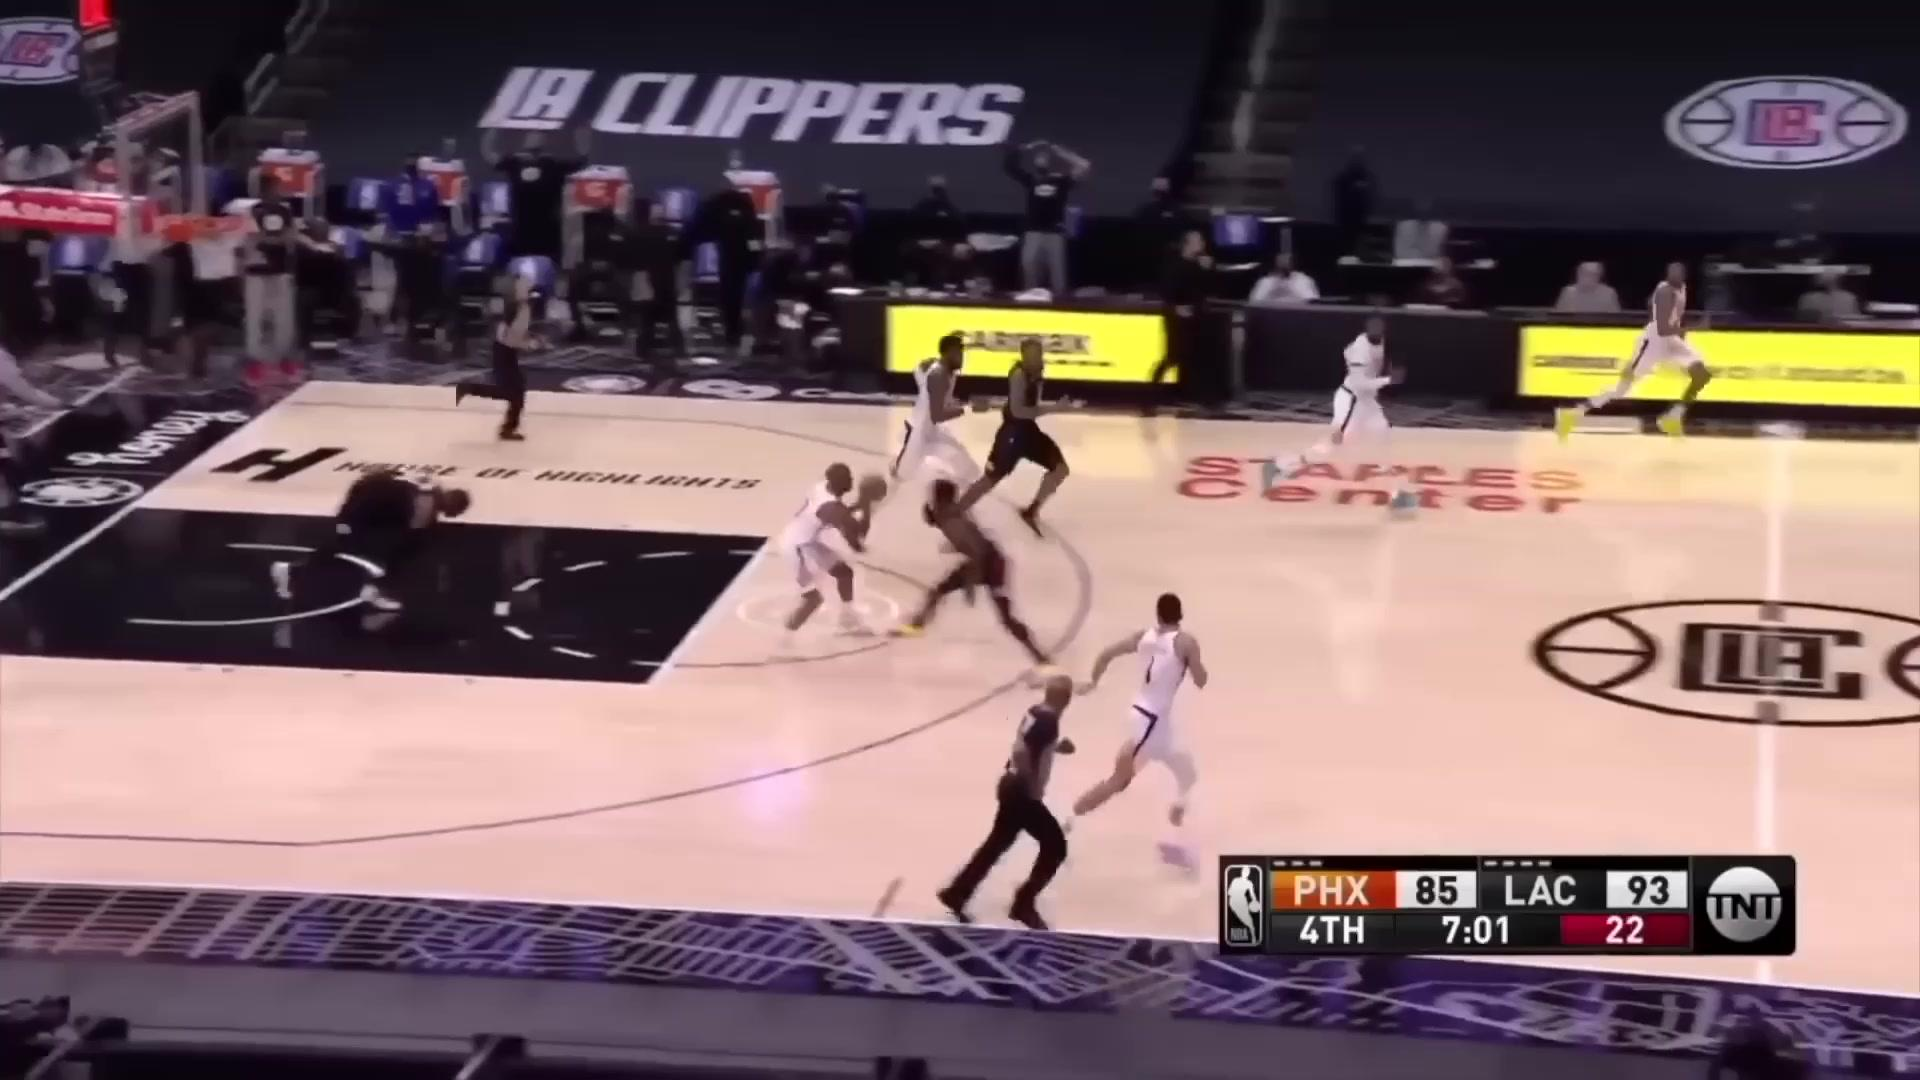no_foul: (752, 423, 1069, 671)
